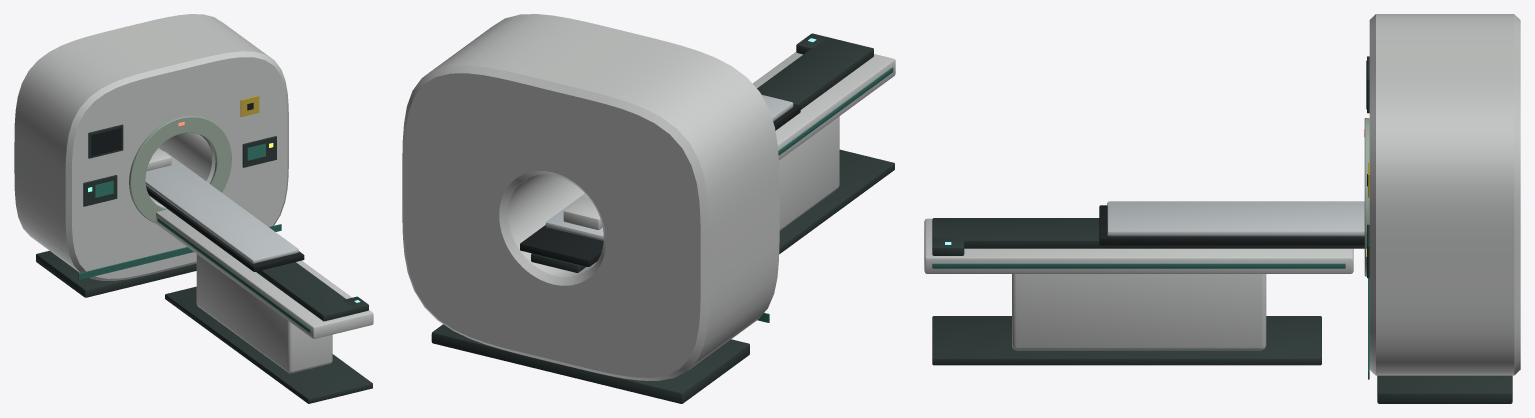
File: ct-scanner.glb
3 renders of one model, left to right at view 1: azimuth 30°, elevation 25°; view 2: azimuth 150°, elevation 25°; view 3: azimuth 270°, elevation 25°, orthographic. The views are drawn at different scales.
Visible parts, largest first — view 1: ct-scanner; view 2: ct-scanner; view 3: ct-scanner.
Part boxes in pixels (left/top/right/bottom): ct-scanner: left=14, top=14, right=373, bottom=403; ct-scanner: left=402, top=14, right=895, bottom=403; ct-scanner: left=924, top=14, right=1520, bottom=403.
Size of the model in its own units: 2.2 by 2 by 3.75.
